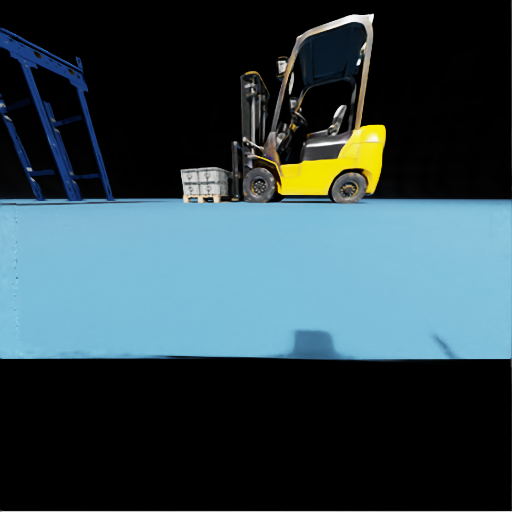transportation_area: (199, 182, 232, 194), (9, 39, 11, 40)
